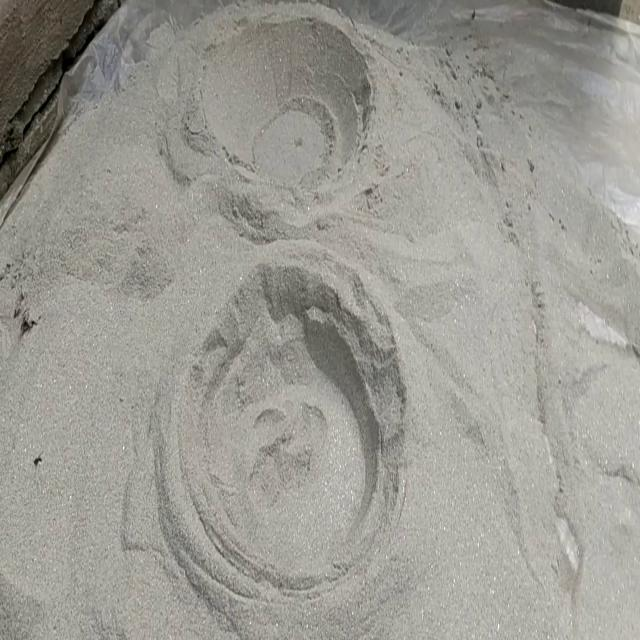C20: (175, 279, 400, 595), (159, 13, 372, 238)
